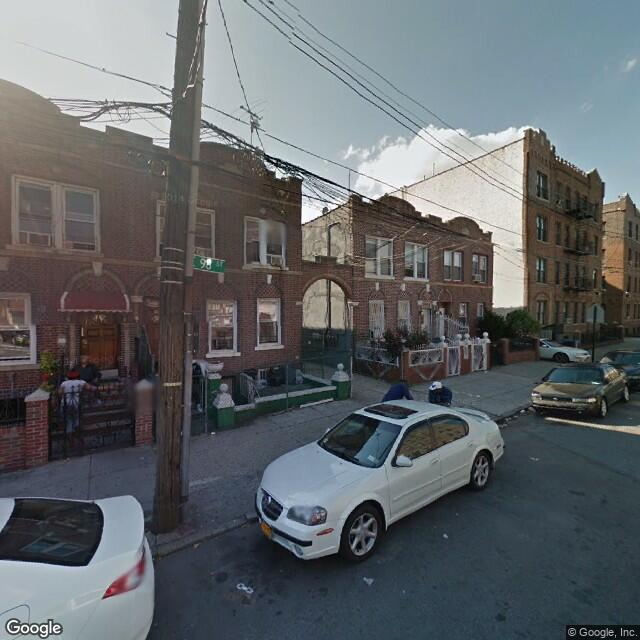litter: (490, 411, 537, 424)
